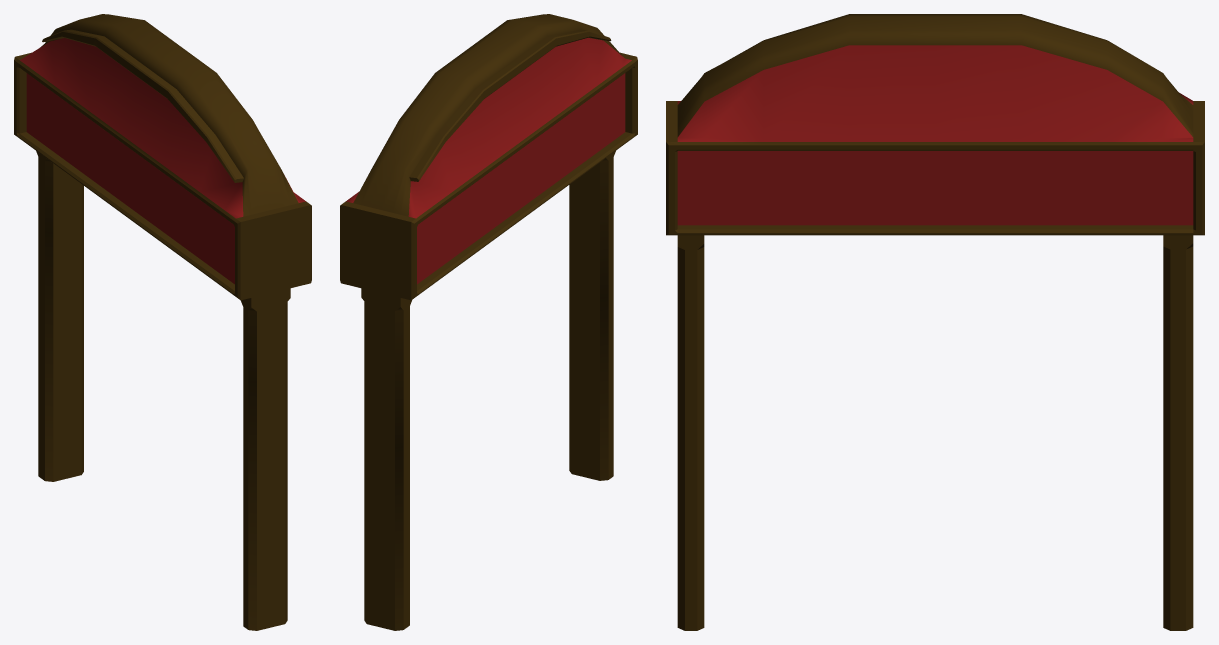
The model's file is Large Sign Textured.FBX.
3 views of the same model, side by side, from view 1: azimuth 30°, elevation 25°; view 2: azimuth 150°, elevation 25°; view 3: azimuth 270°, elevation 25° (orthographic). The views are drawn at different scales.
Parts seen in each view (by area): view 1: Large Sign; view 2: Large Sign; view 3: Large Sign.
Boxes of the visible parts, left/top/right/bottom form: Large Sign: left=14, top=14, right=311, bottom=630; Large Sign: left=340, top=14, right=637, bottom=630; Large Sign: left=666, top=14, right=1204, bottom=630.
Bounding box in the file's own units: 2.83 × 18.19 × 14.9.
Materials: 3 (2 with a texture image).
